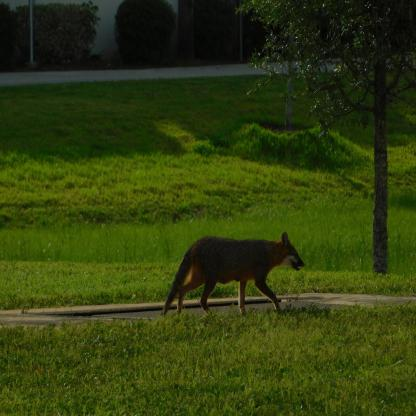zorro: (161, 228, 308, 317)
